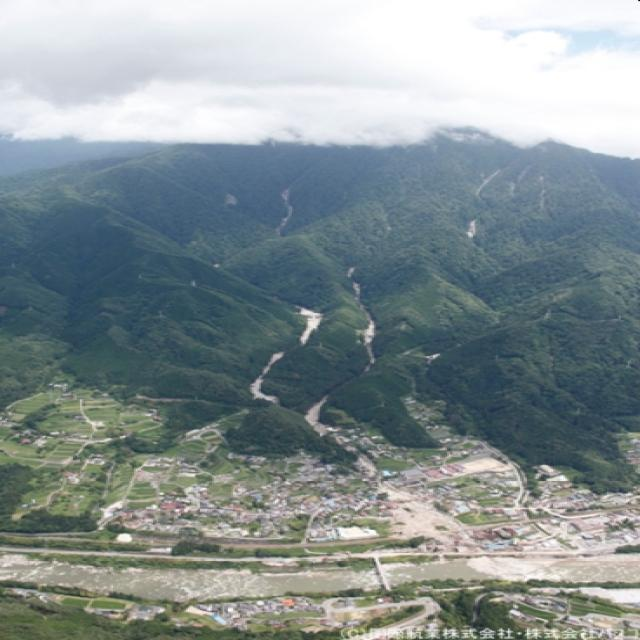Debris-flow: (353, 282, 377, 371), (249, 351, 284, 403), (304, 395, 330, 434), (299, 308, 324, 344), (414, 411, 426, 419)
